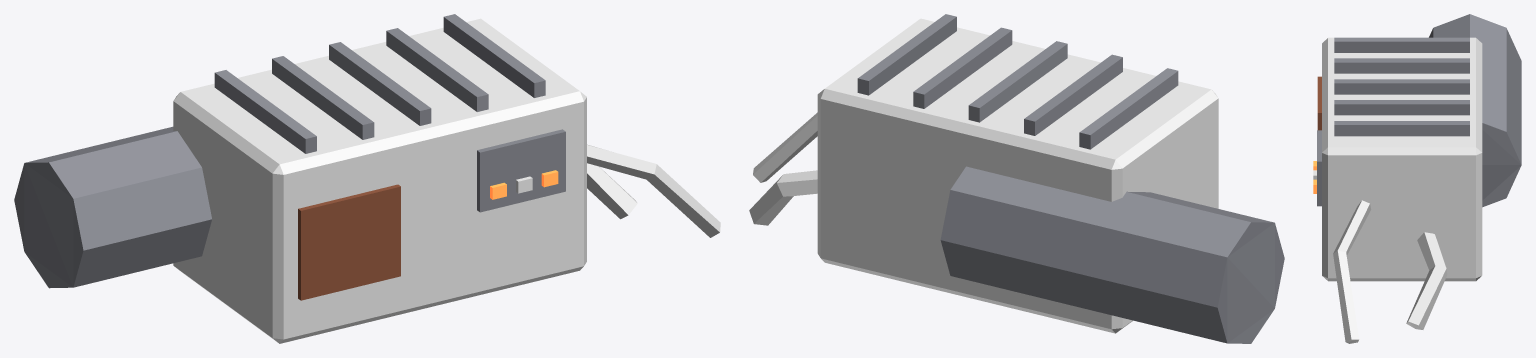
File: Tech_Generator.fbx
3 views of the same model, side by side, from view 1: azimuth 30°, elevation 25°; view 2: azimuth 150°, elevation 25°; view 3: azimuth 270°, elevation 25° (orthographic). The views are drawn at different scales.
Visible parts, largest first — view 1: Tech_Generator; view 2: Tech_Generator; view 3: Tech_Generator.
Part boxes in pixels (x1,y1,x2,y2): Tech_Generator: (14, 14, 720, 343); Tech_Generator: (749, 14, 1284, 343); Tech_Generator: (1313, 14, 1521, 343).
Size of the model in its own units: 4.14 by 1.4 by 1.69.
